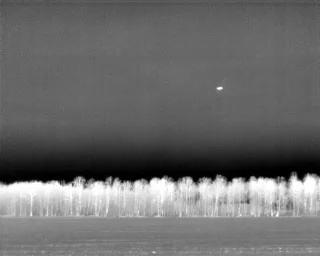DRONE: (213, 83, 226, 94)
